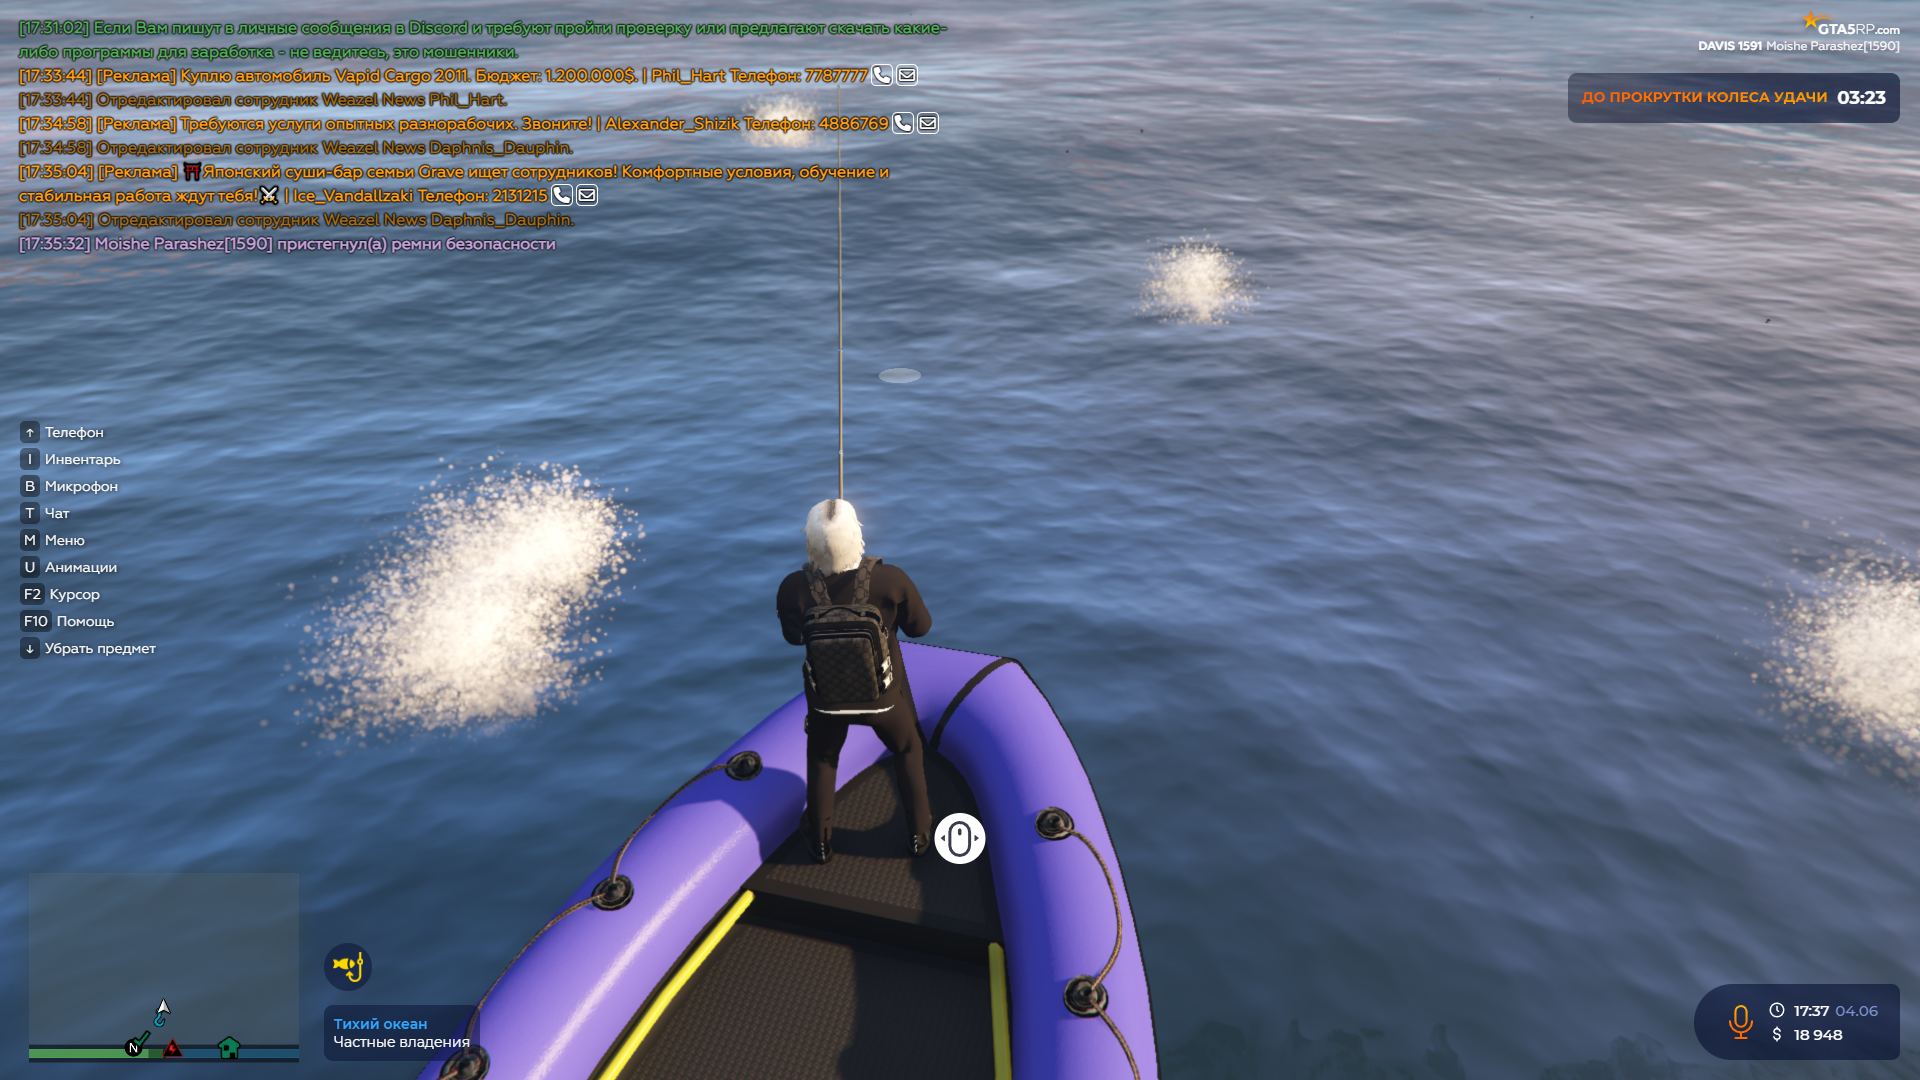circle: (878, 367, 922, 385)
